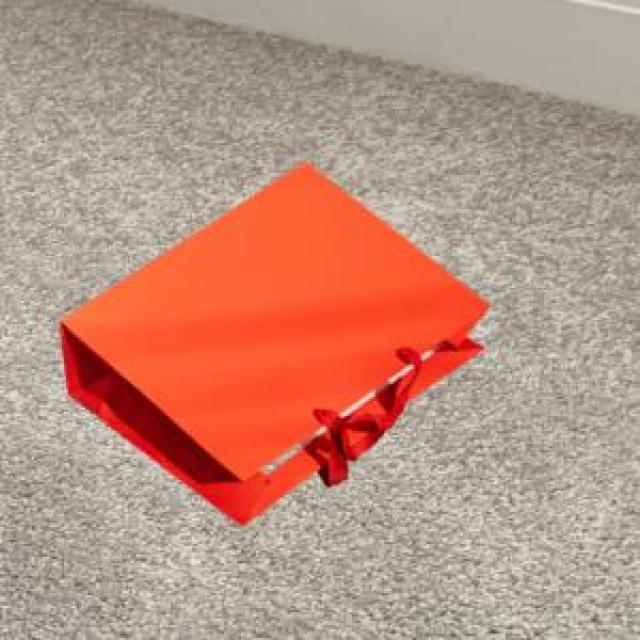paper: (56, 158, 484, 521)
